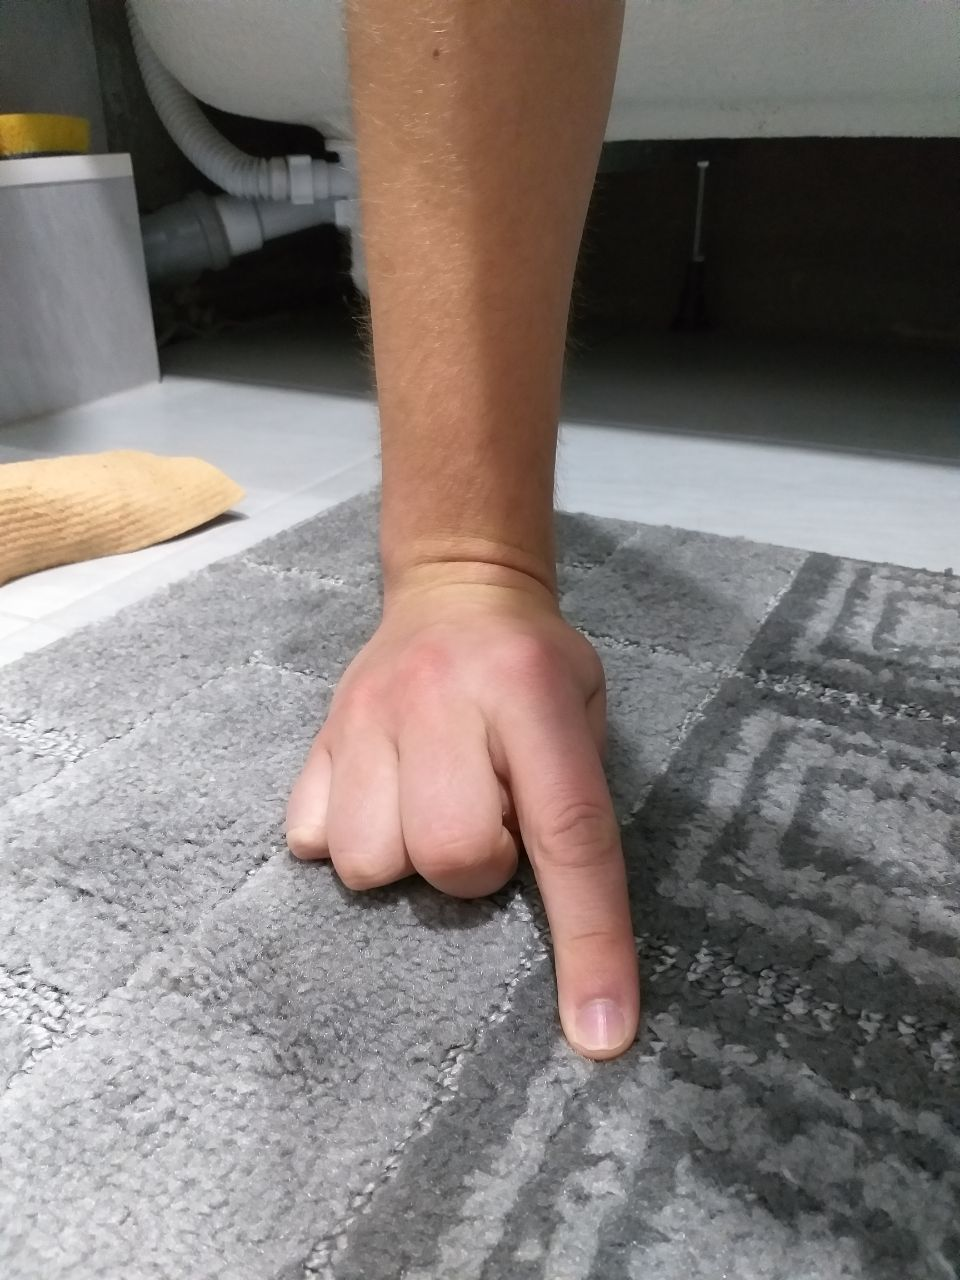finger: (557, 957, 639, 1053)
